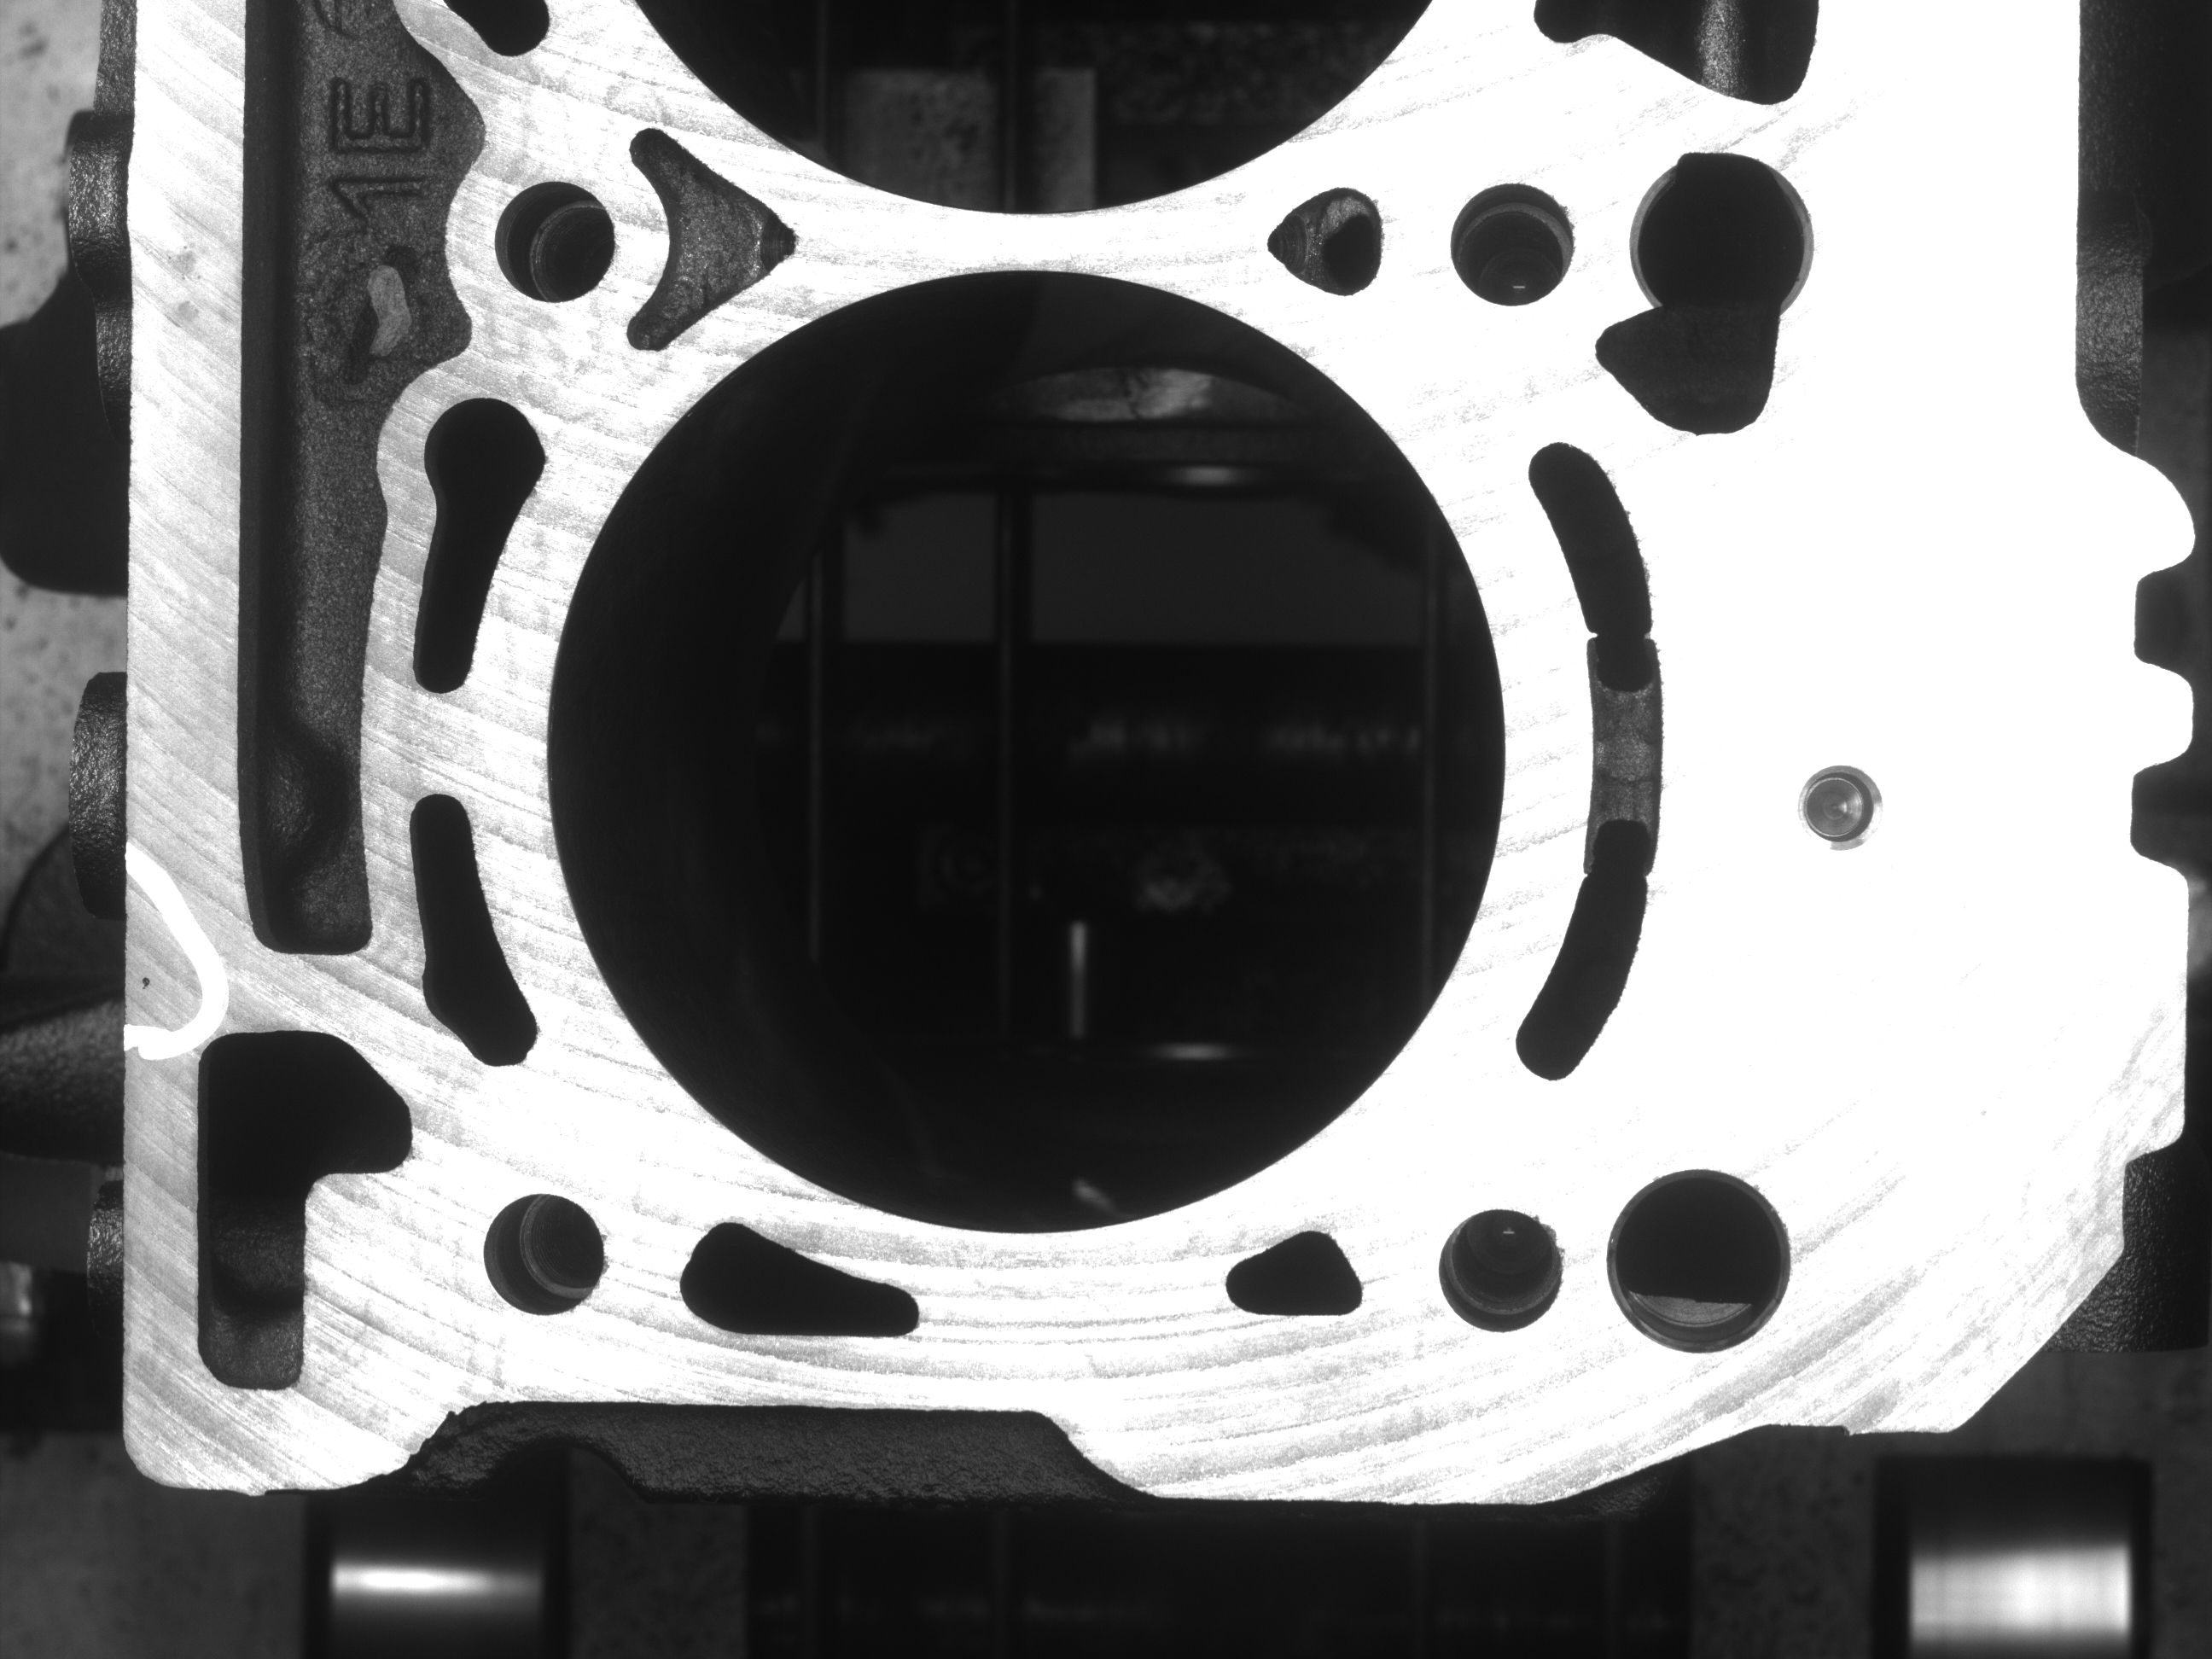crackle: (136, 964, 165, 993)
